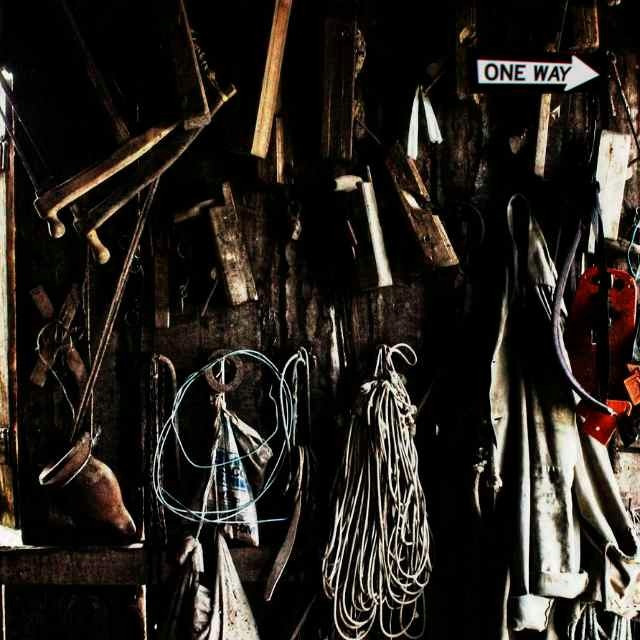ONE_WAY_ right: (465, 46, 613, 94)
